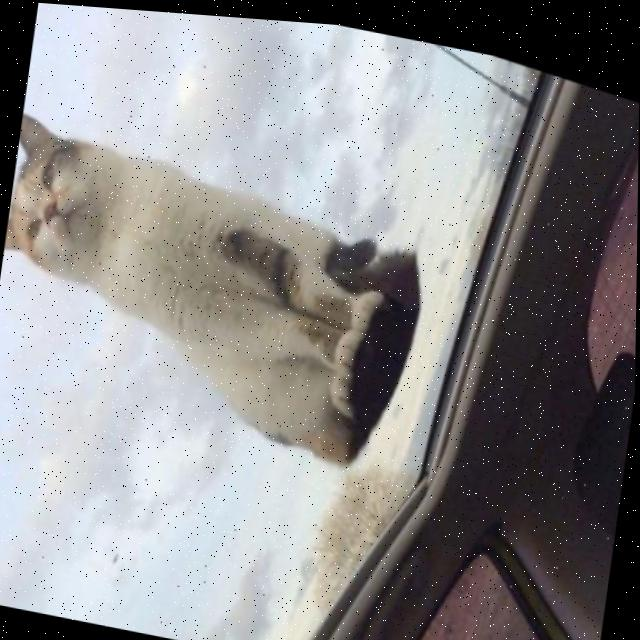Cats: (0, 52, 458, 483)
